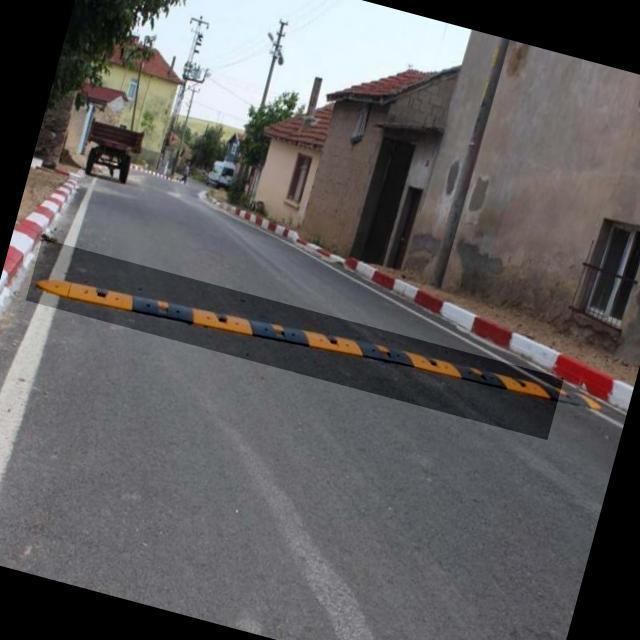speedbreaker: (25, 238, 563, 440)
